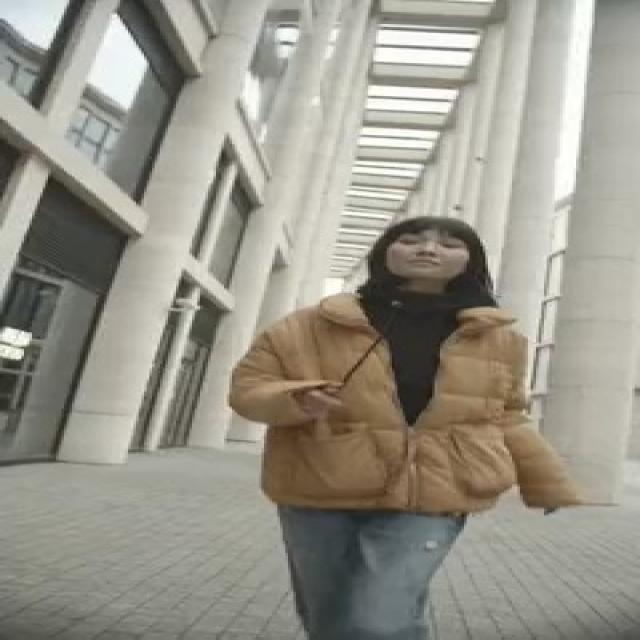Jacket_Wearer: (235, 282, 578, 530)
Person: (237, 211, 600, 640)
